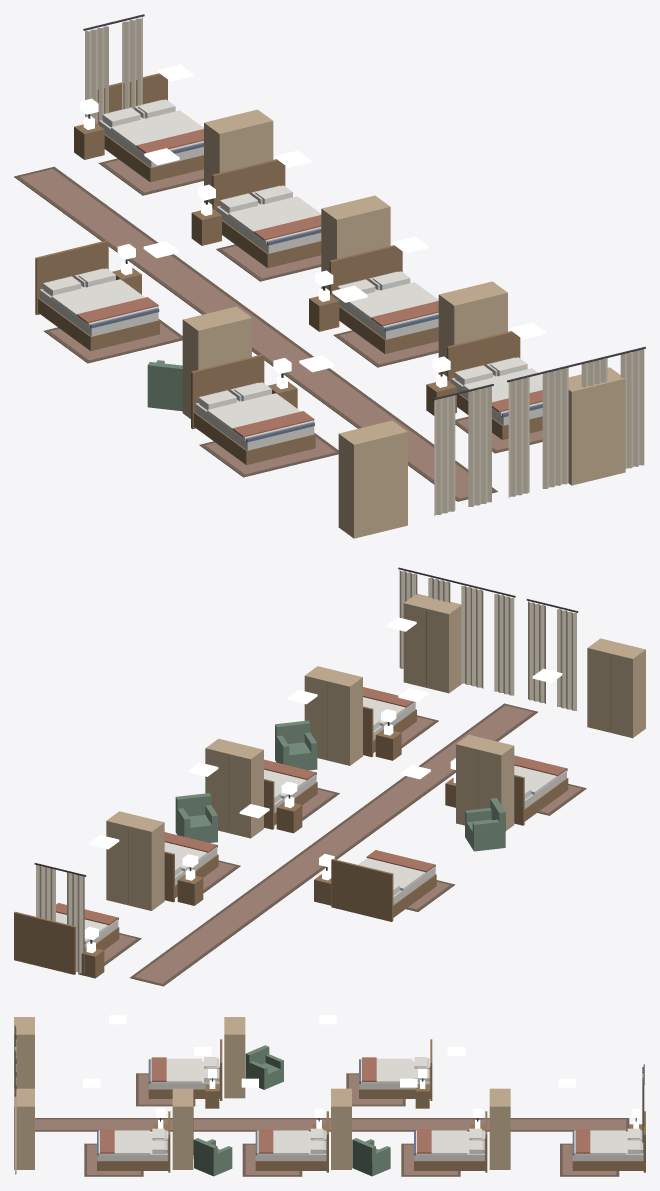
The model's file is fine-s2.glb.
The picture shows the model from 3 angles, top to bottom: view 1: azimuth 30°, elevation 25°; view 2: azimuth 150°, elevation 25°; view 3: azimuth 270°, elevation 25°; orthographic projection. The views are drawn at different scales.
Parts seen in each view (by area): view 1: soft-s2, dresser.007, dresser.011, bed-frame.006, bed-frame.007, bed-frame.009, bed-frame.010, dresser.006, dresser.010, bed-frame.008, dresser.009, dresser.008 (+5 smaller); view 2: soft-s2, dresser.007, dresser.008, dresser.011, dresser.010, dresser.009, dresser.006, bed-frame.006, bed-frame.008, lounge-chair.004, lounge-chair.005, lounge-chair.003 (+8 smaller); view 3: soft-s2, dresser.008, dresser.010, dresser.006, dresser.009, dresser.011, bed-frame.010, bed-frame.011, bed-frame.008, bed-frame.009, dresser.007, lounge-chair.003 (+6 smaller).
Boxes of the visible parts, <box> form: soft-s2: <box>14,14,645,515</box>; dresser.007: <box>338,420,407,538</box>; dresser.011: <box>568,367,625,485</box>; bed-frame.006: <box>35,240,159,350</box>; bed-frame.007: <box>191,354,315,464</box>; bed-frame.009: <box>212,159,321,268</box>; bed-frame.010: <box>329,245,438,353</box>; dresser.006: <box>182,306,251,418</box>; dresser.010: <box>438,281,507,376</box>; bed-frame.008: <box>97,73,203,182</box>; dresser.009: <box>321,195,390,289</box>; dresser.008: <box>204,109,273,204</box>; soft-s2: <box>34,567,586,986</box>; dresser.007: <box>587,638,645,738</box>; dresser.008: <box>106,811,164,910</box>; dresser.011: <box>403,593,461,693</box>; dresser.010: <box>304,666,362,765</box>; dresser.009: <box>205,738,263,838</box>; dresser.006: <box>456,734,514,830</box>; bed-frame.006: <box>331,859,436,921</box>; bed-frame.008: <box>14,911,119,974</box>; lounge-chair.004: <box>175,793,217,842</box>; lounge-chair.005: <box>275,720,317,770</box>; lounge-chair.003: <box>465,798,505,851</box>; soft-s2: <box>14,1025,644,1176</box>; dresser.008: <box>489,1088,510,1169</box>; dresser.010: <box>172,1088,193,1169</box>; dresser.006: <box>224,1017,245,1098</box>; dresser.009: <box>331,1088,351,1169</box>; dresser.011: <box>14,1088,34,1169</box>; bed-frame.010: <box>255,1111,328,1172</box>; bed-frame.011: <box>97,1111,170,1172</box>; bed-frame.008: <box>572,1111,645,1172</box>; bed-frame.009: <box>414,1111,487,1172</box>; dresser.007: <box>14,1017,34,1088</box>; lounge-chair.003: <box>245,1045,283,1089</box>.
Size of the model in its own units: 6.97 by 2.56 by 18.08.
